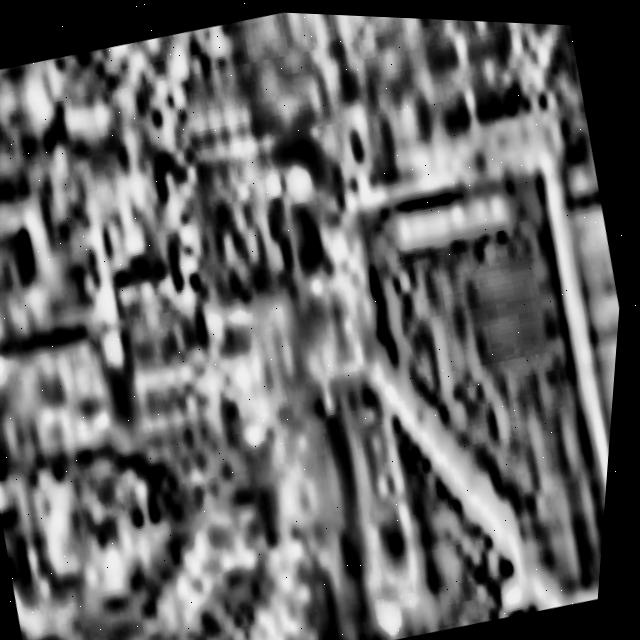dump_truck: (167, 7, 640, 640)
